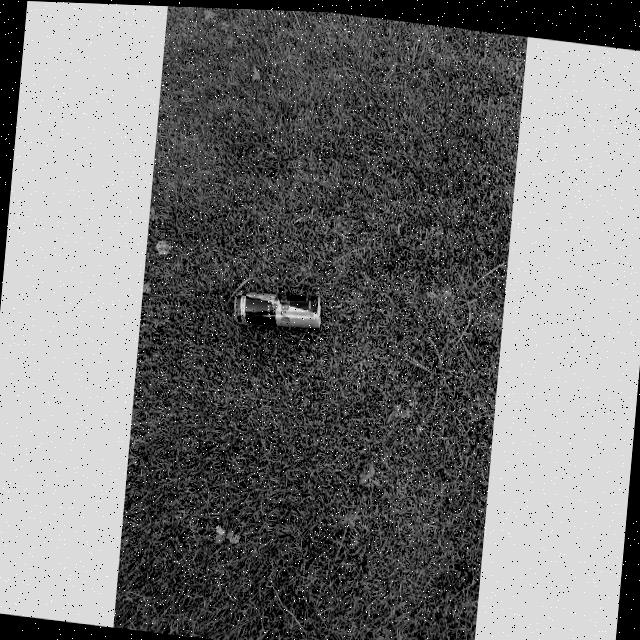Redbull: (233, 283, 322, 329)
